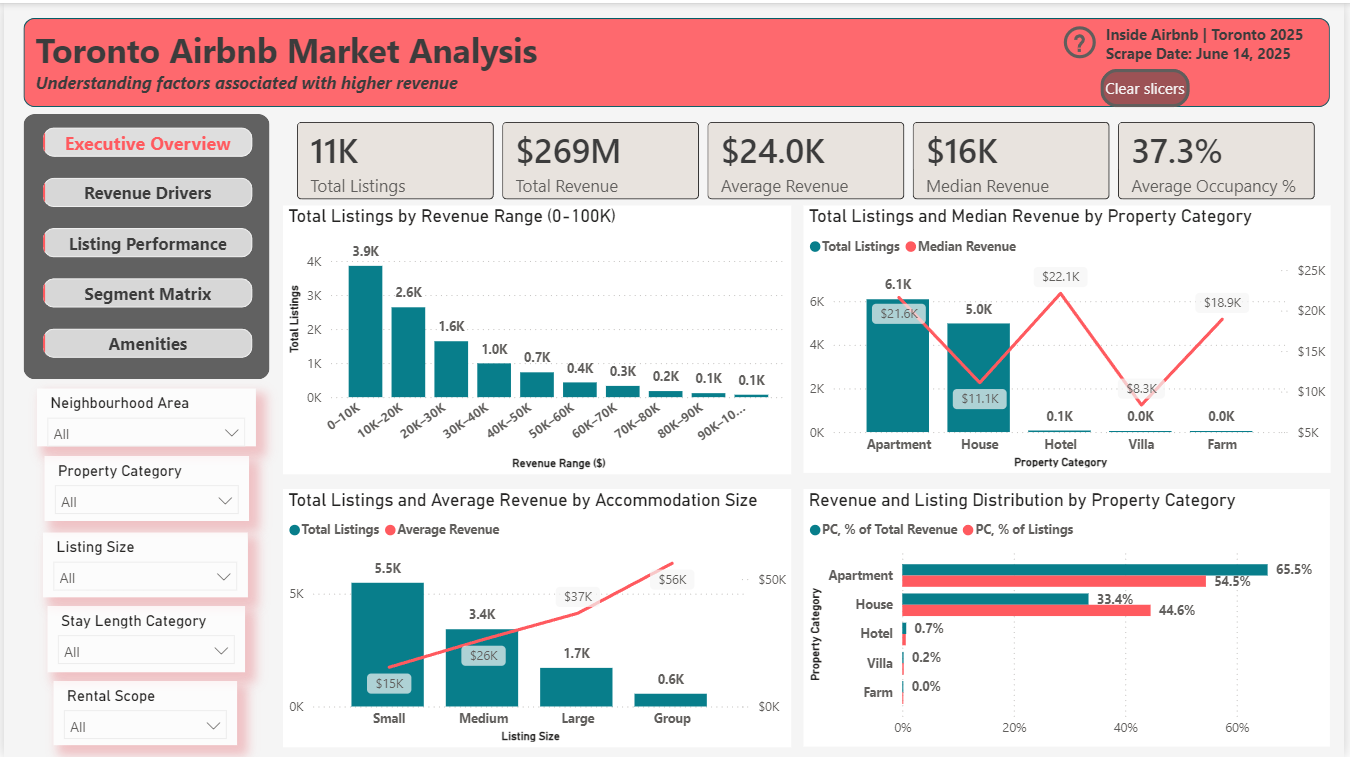

The dashboard page shown, as its layout file describes it:
{"tool":"powerbi","page":{"name":"Executive Overview","canvas":[1280,720],"ordinal":0},"visuals":[{"type":"shape","box":[18.3,106.7,235,253.3],"z":0},{"type":"shape","box":[18.2,14.2,1247.6,85.1],"z":1000},{"type":"textbox","box":[10,16.7,531.7,90],"z":2000},{"type":"textbox","box":[1047.5,14.6,218,47.2],"z":3000},{"type":"pageNavigator","box":[36.7,118.3,200,231],"z":4000},{"type":"actionButton","box":[1047.1,62.8,85.1,36.5],"z":5000},{"type":"slicer","fields":{"Values":["dim_neighbourhoods.Neighbourhood Area Hierarchy.Neighbourhood Area","dim_neighbourhoods.Neighbourhood Area Hierarchy.Neighbourhood Name"]},"box":[31.1,368.3,208.3,55],"z":6000},{"type":"slicer","fields":{"Values":["dim_classifications.Property Category"]},"box":[38.3,432.8,195,61.7],"z":7000},{"type":"slicer","fields":{"Values":["dim_classifications.Accommodation Size"]},"box":[37.8,505,195,61.7],"z":8000},{"type":"slicer","fields":{"Values":["dim_classifications.Stay Length Category"]},"box":[41.7,576.1,188.3,63.3],"z":9000},{"type":"slicer","fields":{"Values":["dim_classifications.Rental Scope"]},"box":[46.7,647.8,175,61],"z":10000},{"type":"cardVisual","fields":{"Data":["Measures List.Total Listings","Measures List.Total Revenue","Measures List.Average Revenue","Measures List.Median Revenue","Measures List.Average Occupancy Rate"]},"box":[266.7,100,998.3,100],"z":11000},{"type":"clusteredColumnChart","title":"Total Listings by Revenue Range (0-100K)","fields":{"Category":["fact_listings.Revenue Range"],"Y":["Measures List.Total Listings"]},"box":[266.7,193.3,485,256.7],"z":12000},{"type":"lineClusteredColumnComboChart","title":"Total Listings and Median Revenue by Property Category","fields":{"Category":["dim_classifications.Property Category"],"Y":["Measures List.Total Listings"],"Y2":["Measures List.Median Revenue"]},"box":[763.3,193.3,503.3,255],"z":13000},{"type":"clusteredBarChart","title":"Revenue and Listing Distribution by Property Category","fields":{"Category":["dim_classifications.Property Category"],"Y":["Measures List.Property Category Revenue %","Measures List.Property Category Listings %"]},"box":[763.1,463.7,502.8,245.7],"z":14000},{"type":"lineClusteredColumnComboChart","title":"Total Listings and Average Revenue by Accommodation Size","fields":{"Category":["dim_classifications.Accommodation Size"],"Y":["Measures List.Total Listings"],"Y2":["Measures List.Average Revenue"]},"box":[266.3,463.7,485.4,246.3],"z":15000},{"type":"actionButton","box":[1007.2,17.9,40.7,40.7],"z":16000}]}

Visuals, with their boxes in screenshot pixels (x1, y1, x2, y2), scaled from the page's 1280x720 canvas onto the 1350x757 screenshot:
shape: <box>19,112,267,378</box>
shape: <box>19,15,1335,104</box>
textbox: <box>11,18,571,112</box>
textbox: <box>1105,15,1335,65</box>
pageNavigator: <box>39,124,250,367</box>
actionButton: <box>1104,66,1194,104</box>
slicer - dim_neighbourhoods.Neighbourhood Area Hierarchy.Neighbourhood Area x dim_neighbourhoods.Neighbourhood Area Hierarchy.Neighbourhood Name: <box>33,387,252,445</box>
slicer - dim_classifications.Property Category: <box>40,455,246,520</box>
slicer - dim_classifications.Accommodation Size: <box>40,531,246,596</box>
slicer - dim_classifications.Stay Length Category: <box>44,606,243,672</box>
slicer - dim_classifications.Rental Scope: <box>49,681,234,745</box>
cardVisual - Measures List.Total Listings x Measures List.Total Revenue: <box>281,105,1334,210</box>
"Total Listings by Revenue Range (0-100K)" clusteredColumnChart: <box>281,203,793,473</box>
"Total Listings and Median Revenue by Property Category" lineClusteredColumnComboChart: <box>805,203,1336,471</box>
"Revenue and Listing Distribution by Property Category" clusteredBarChart: <box>805,488,1335,746</box>
"Total Listings and Average Revenue by Accommodation Size" lineClusteredColumnComboChart: <box>281,488,793,746</box>
actionButton: <box>1062,19,1105,62</box>
